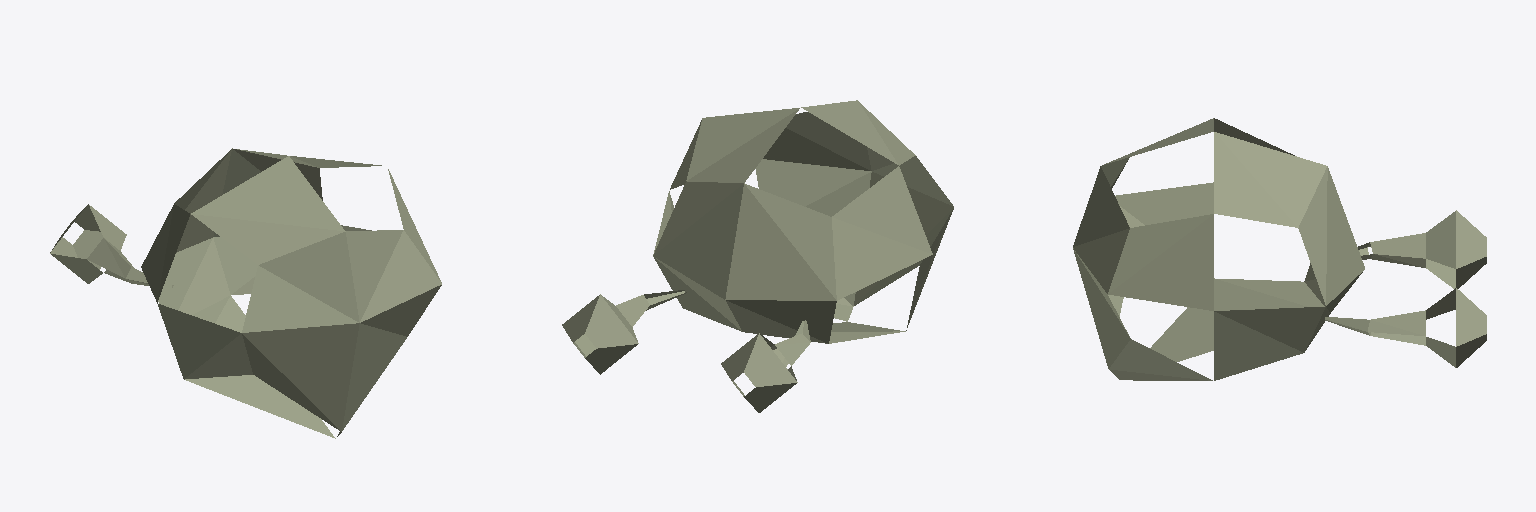
The model's file is brain.obj.
3 renders of one model, left to right at view 1: azimuth 30°, elevation 25°; view 2: azimuth 150°, elevation 25°; view 3: azimuth 270°, elevation 25°, orthographic.
Visible parts, largest first — view 1: Cube1_sep6; view 2: Cube1_sep6; view 3: Cube1_sep6.
Boxes of the visible parts, <box> form: Cube1_sep6: <box>50,148,441,438</box>; Cube1_sep6: <box>562,100,953,412</box>; Cube1_sep6: <box>1073,118,1486,380</box>.
Bounding box in the file's own units: 2.01 × 1.81 × 2.74.